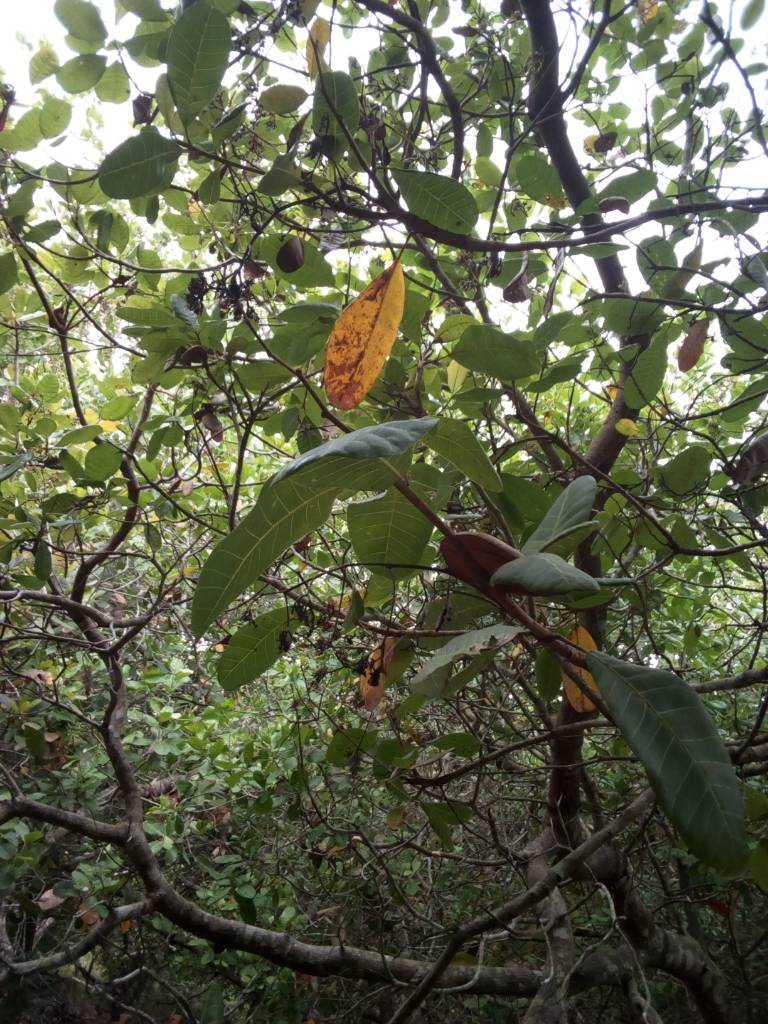Alternariose: (319, 267, 407, 411)
